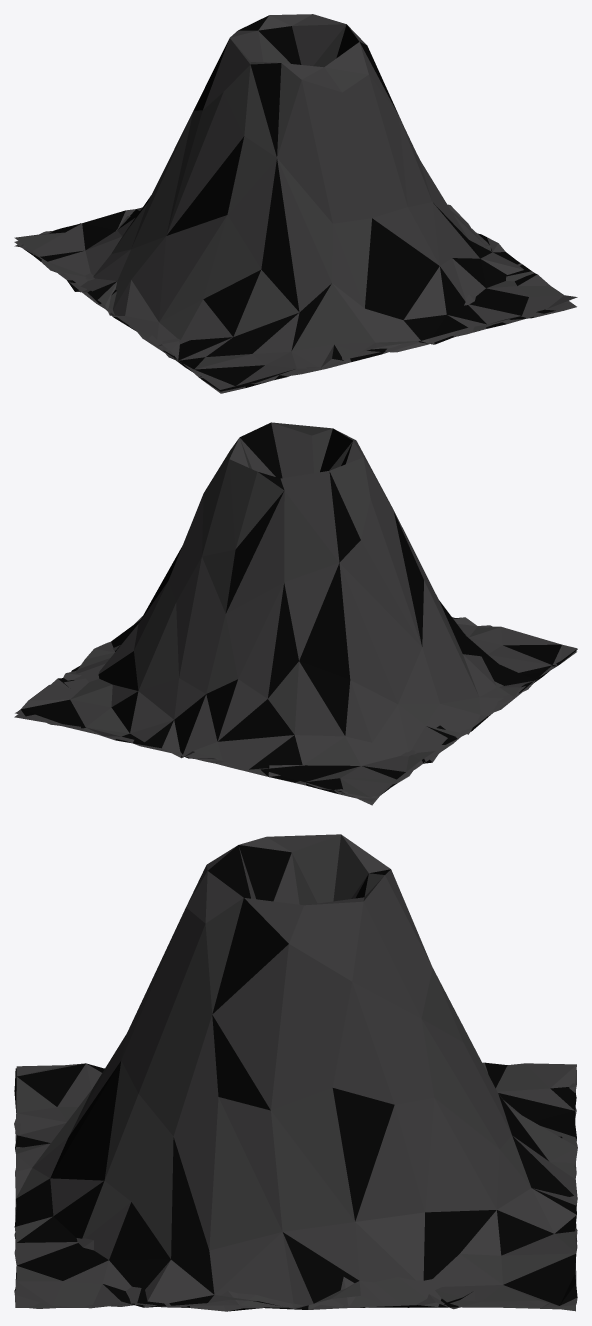
File: volcanos.fbx
The picture shows the model from 3 angles, top to bottom: view 1: azimuth 30°, elevation 25°; view 2: azimuth 150°, elevation 25°; view 3: azimuth 270°, elevation 25°; orthographic projection. The views are drawn at different scales.
Parts seen in each view (by area): view 1: volcano, volcano1, volcano2; view 2: volcano, volcano1, volcano2; view 3: volcano, volcano1, volcano2.
Part boxes in pixels (<box>): volcano: <box>14,14,577,389</box>; volcano1: <box>14,216,576,391</box>; volcano2: <box>14,241,575,393</box>; volcano: <box>15,422,577,797</box>; volcano1: <box>15,617,577,805</box>; volcano2: <box>14,651,576,801</box>; volcano: <box>14,834,577,1309</box>; volcano1: <box>14,1068,577,1307</box>; volcano2: <box>14,1070,577,1311</box>.
Size of the model in its own units: 262 by 168 by 262.
Materials: 1 (1 with a texture image).
